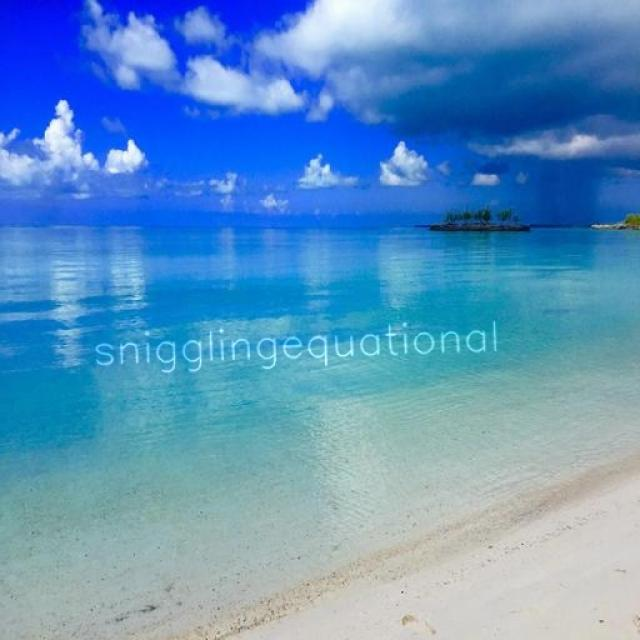watermark: (82, 318, 500, 372)
